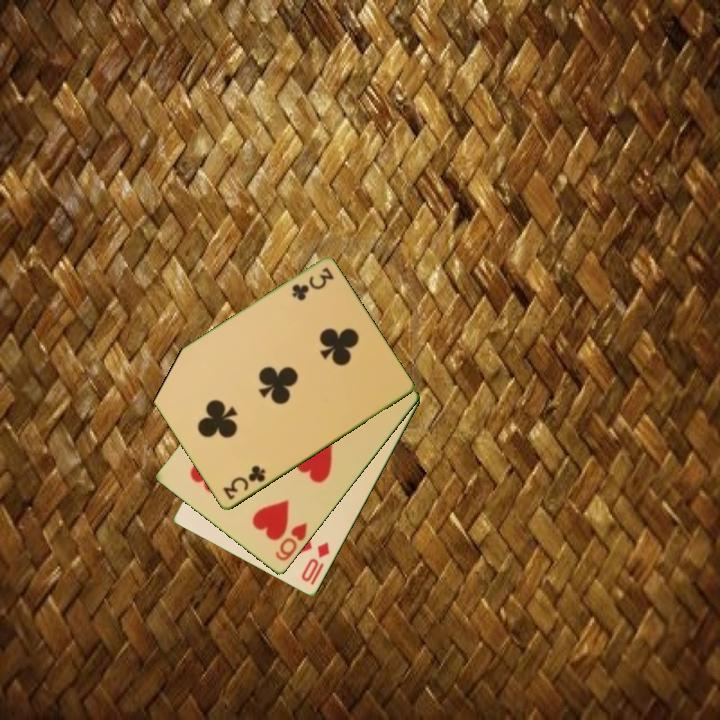10d: (298, 539, 333, 585)
3c: (219, 462, 269, 503), (288, 264, 337, 303)
6h: (271, 519, 311, 564)
